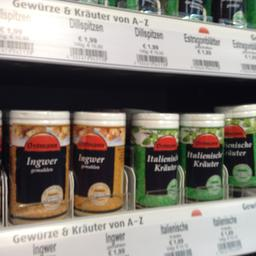spices: (8, 108, 69, 220), (71, 108, 126, 212), (130, 110, 178, 206), (178, 111, 223, 198), (216, 102, 255, 188)
